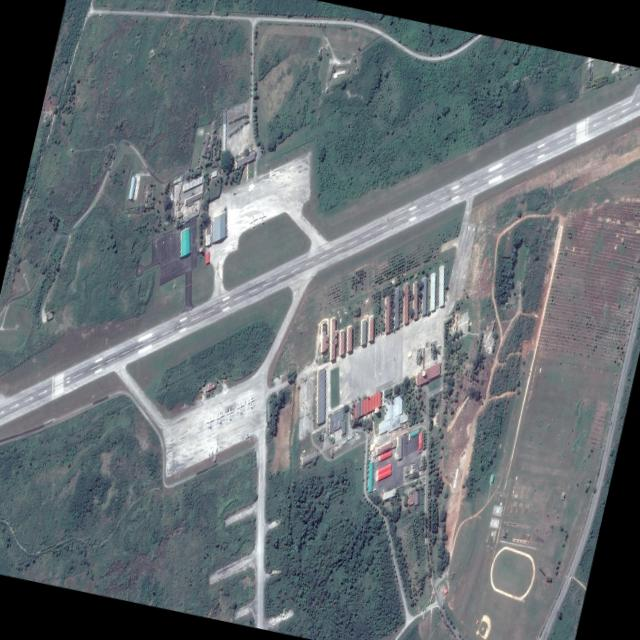plane: (249, 211, 258, 228), (216, 409, 224, 425), (206, 412, 214, 428), (247, 393, 255, 408), (236, 398, 244, 413), (259, 208, 266, 223), (226, 405, 233, 420), (211, 448, 213, 458), (215, 446, 217, 455), (208, 448, 210, 457)
